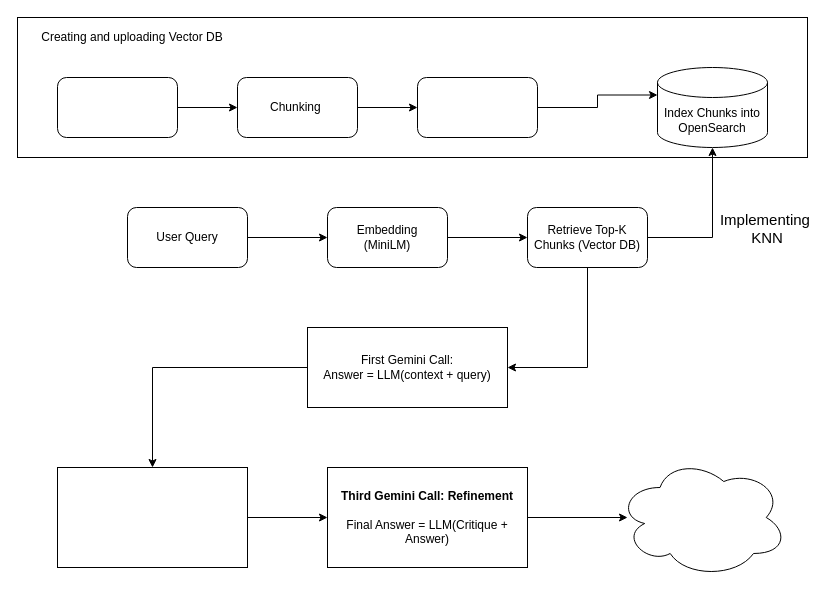
This 835x595 diagram has some shape labels left out. Here are the shapes that lost their labels. From the top down, the centre of each, then its label:
At point (117, 107): "PDF Upload".
At point (477, 107): "Embedding".
At point (152, 517): "Second Gemini Call: Critique Critique = LLM(reason about Answer)".
At point (702, 517): "🧠 Display Final Answer to User".
